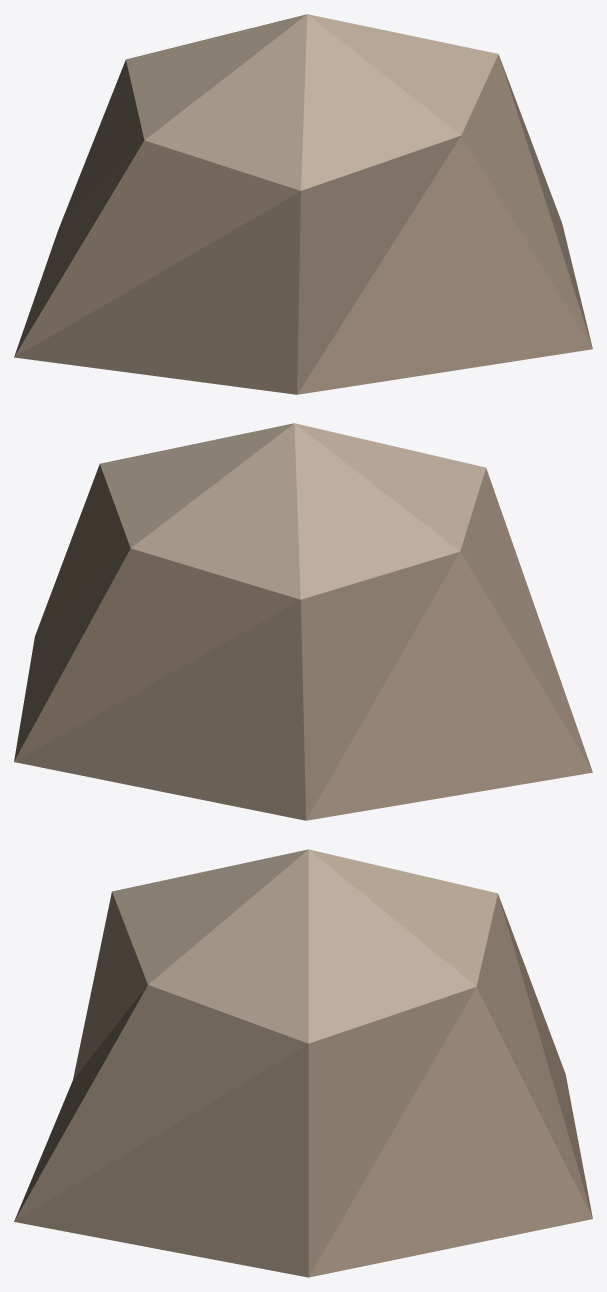
File: rock.obj
3 renders of one model, top to bottom at view 1: azimuth 30°, elevation 25°; view 2: azimuth 150°, elevation 25°; view 3: azimuth 270°, elevation 25°, orthographic. The views are drawn at different scales.
Size of the model in its own units: 0.929 by 0.44 by 0.786.
